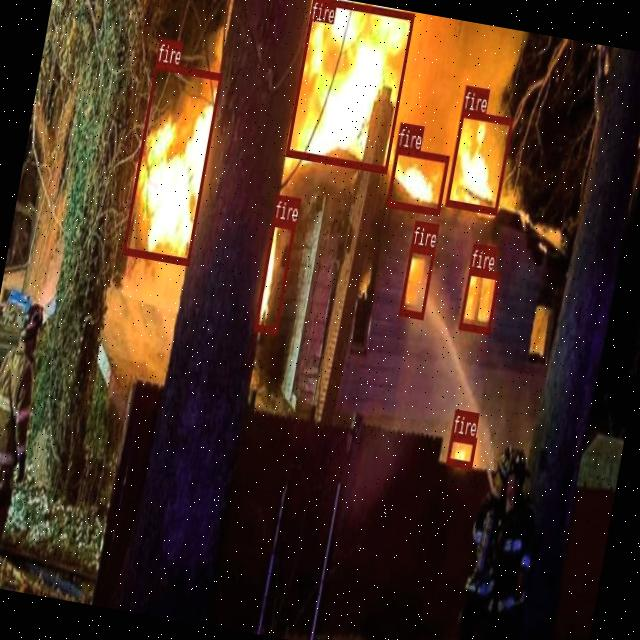fire: (285, 0, 413, 171), (121, 60, 222, 264), (444, 109, 513, 214), (252, 217, 295, 333), (386, 146, 448, 213), (458, 266, 499, 332), (398, 244, 435, 317), (446, 432, 476, 467)
